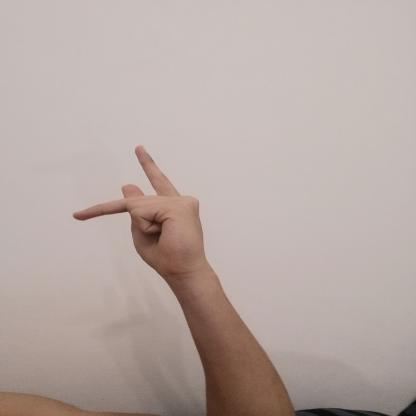DHAA: (60, 136, 217, 282)
